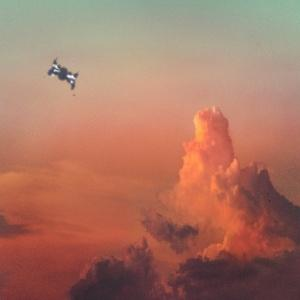drone: (19, 34, 108, 123)
